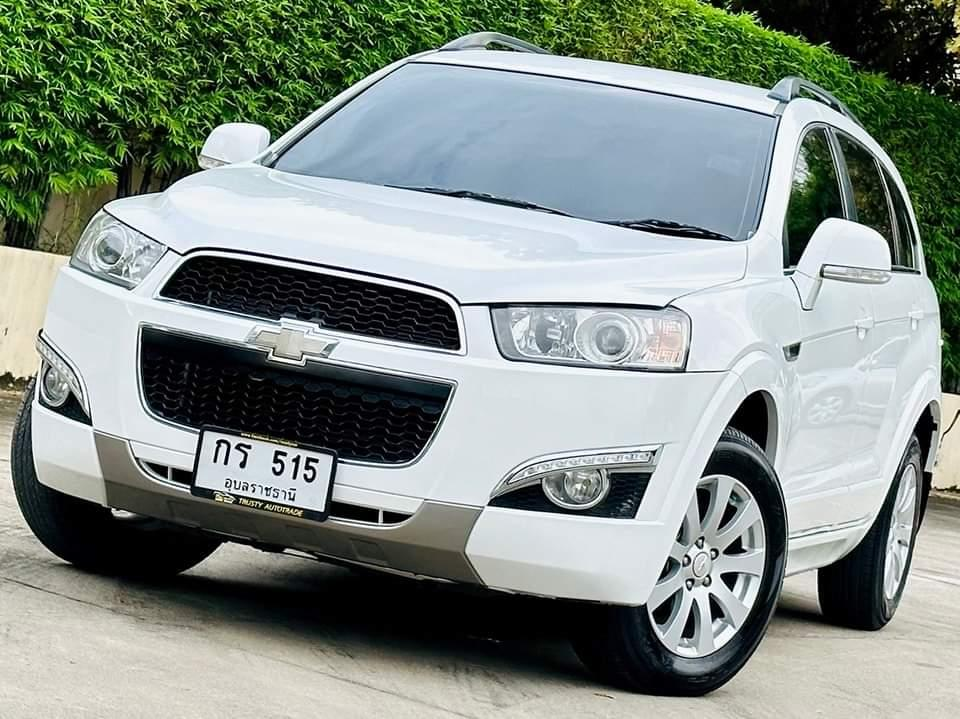license-plate: (188, 418, 341, 525)
